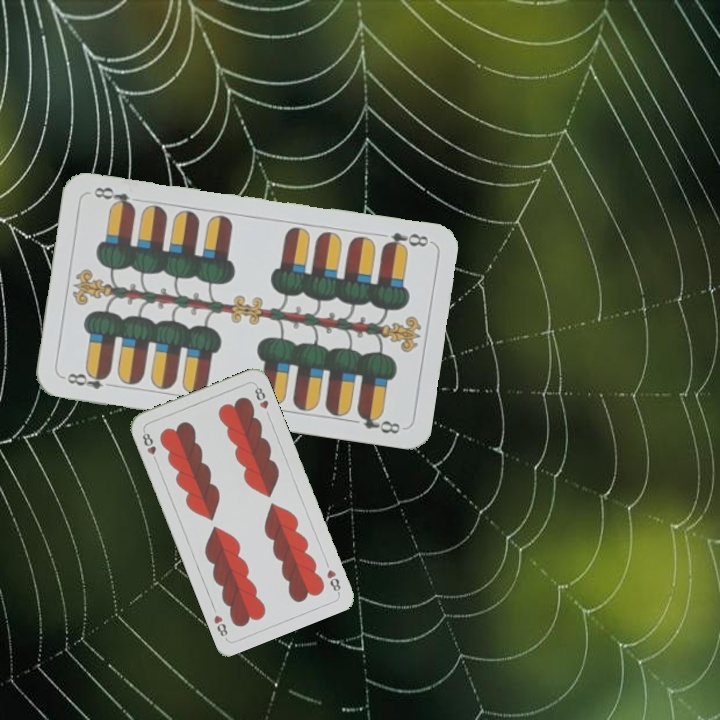E8: (60, 367, 118, 392), (378, 228, 431, 253)
H8: (138, 426, 160, 465), (323, 565, 343, 596)
